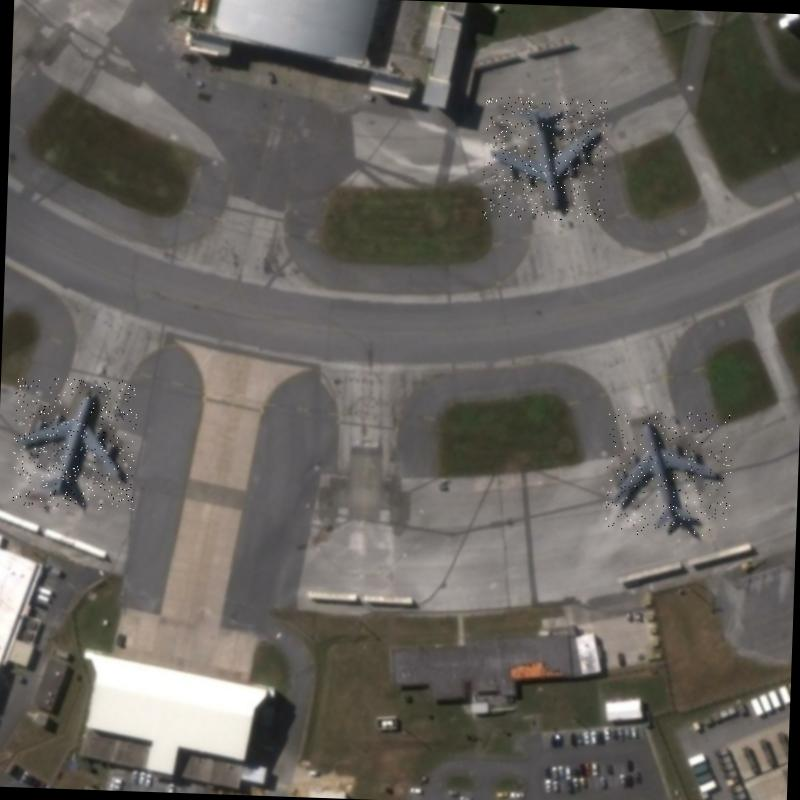A14: (12, 376, 138, 510), (604, 409, 732, 538), (482, 96, 608, 222)
